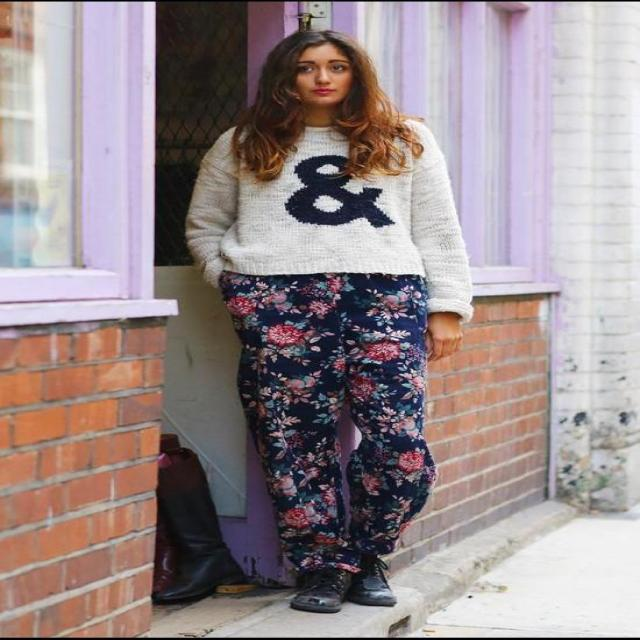pants: (219, 268, 438, 569)
sweater: (187, 118, 475, 318)
